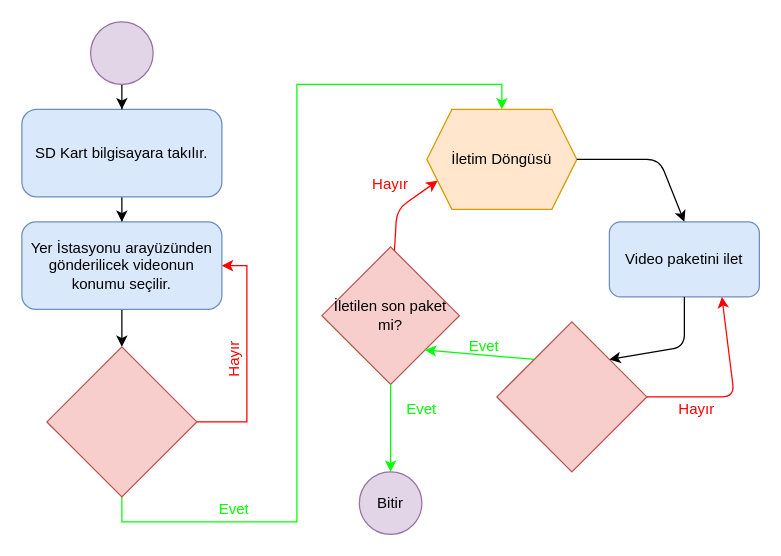
Image size: 781x556. Some labels were removed from this diagram. The shapes that lost their labels are listed below. From the top down, each one's centre as x and y in pixels, then its label:
At pixel 121 52: "Başla".
At pixel 571 396: "Gönderilen paket ulaştı mı?".
At pixel 121 421: "Video seçilen konumda mı ?".
